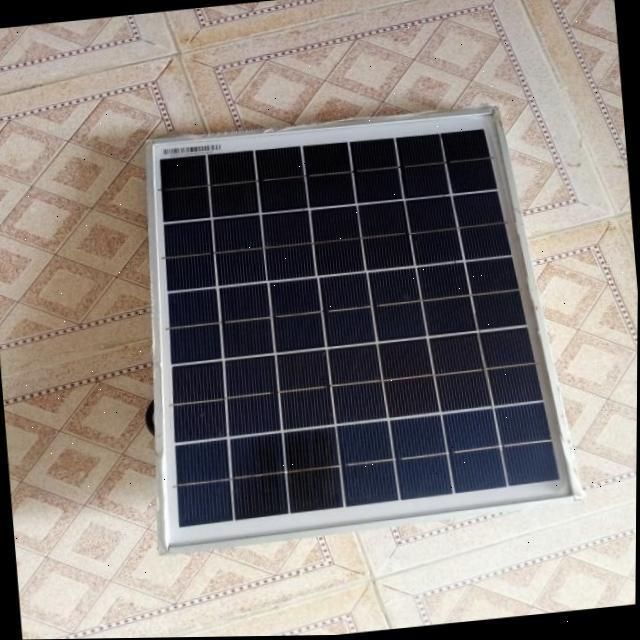Normal Solar Panel: (128, 101, 582, 552)
